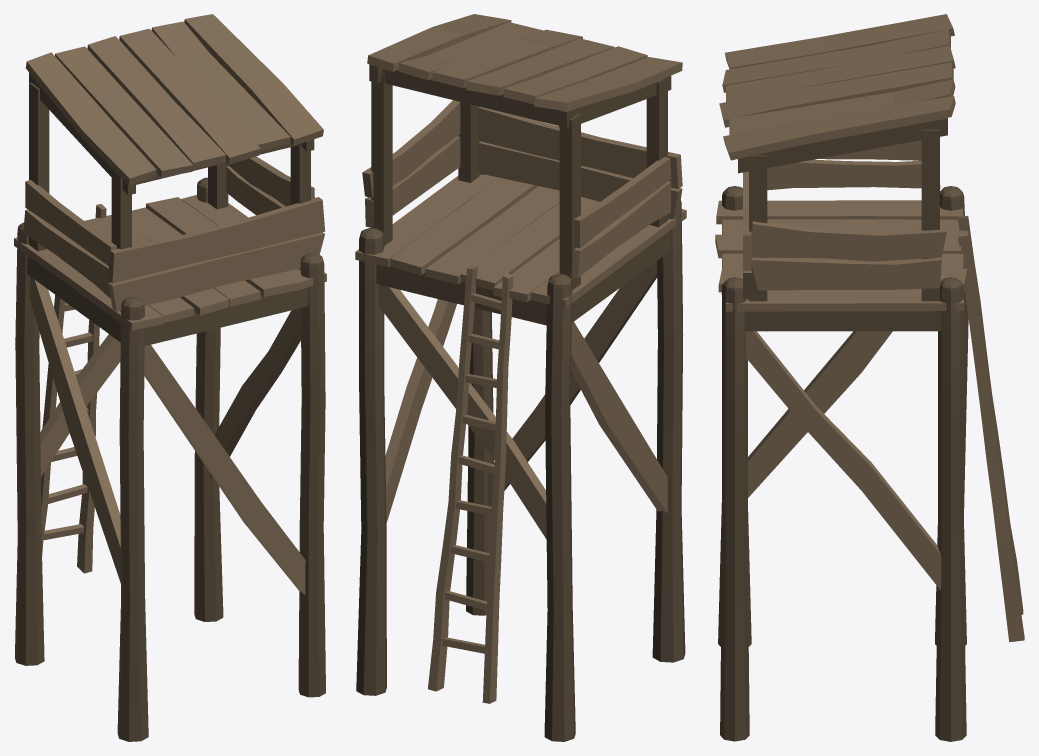
The model's file is tower_a.FBX.
3 views of the same model, side by side, from view 1: azimuth 30°, elevation 25°; view 2: azimuth 150°, elevation 25°; view 3: azimuth 270°, elevation 25° (orthographic). The views are drawn at different scales.
Visible parts, largest first — view 1: tower_a; view 2: tower_a; view 3: tower_a.
Part boxes in pixels (x1=…): tower_a: x1=14, y1=14, x2=326, y2=741; tower_a: x1=355, y1=14, x2=686, y2=741; tower_a: x1=715, y1=14, x2=1024, y2=741.
Bounding box in the file's own units: 2.97 × 8.02 × 3.58.
